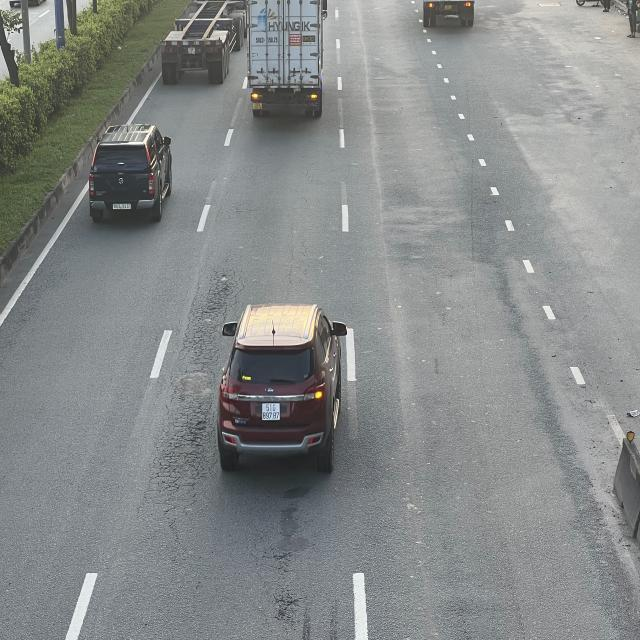car: (219, 302, 350, 472), (89, 124, 176, 223)
container: (245, 2, 328, 120), (162, 0, 245, 87)
